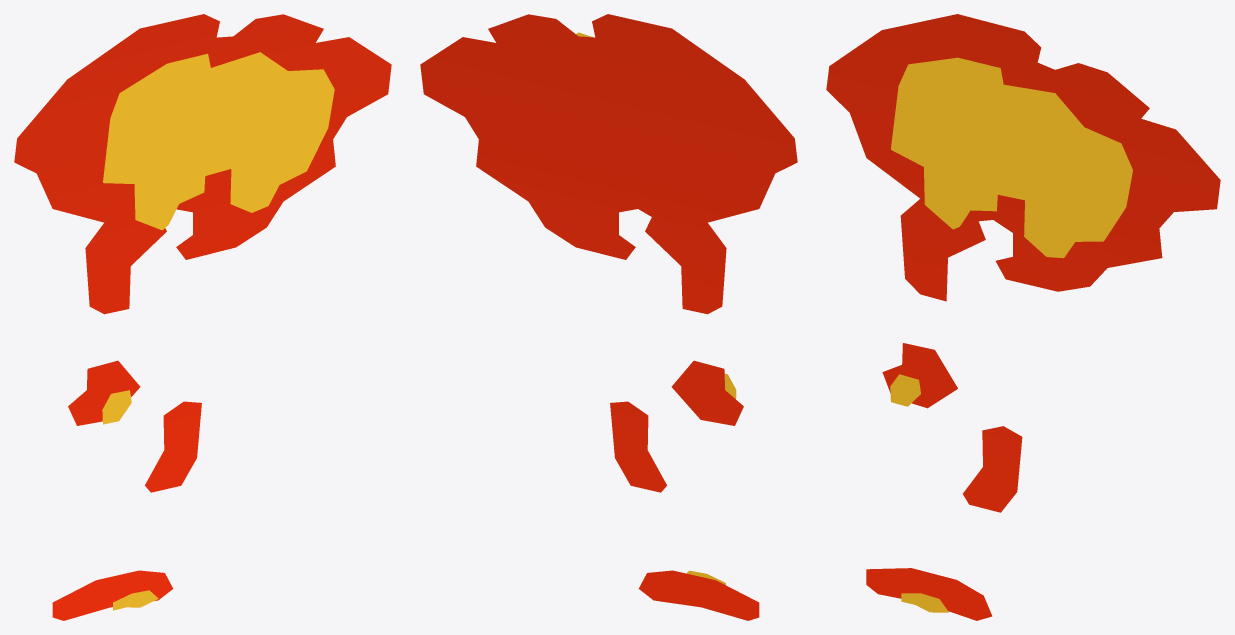
Rendered from fogonazo-007.gltf.
3 views of the same model, side by side, from view 1: azimuth 30°, elevation 25°; view 2: azimuth 150°, elevation 25°; view 3: azimuth 330°, elevation 25° (orthographic). The views are drawn at different scales.
Visible parts, largest first — view 1: Caldero_Fogonazo-f.007; view 2: Caldero_Fogonazo-f.007; view 3: Caldero_Fogonazo-f.007.
Part boxes in pixels (<box>): Caldero_Fogonazo-f.007: <box>14,14,391,620</box>; Caldero_Fogonazo-f.007: <box>420,14,797,620</box>; Caldero_Fogonazo-f.007: <box>826,14,1220,620</box>.
Bounding box in the file's own units: 0.4867 × 0.7103 × 0.03.
Materials: 1 (1 with a texture image).
